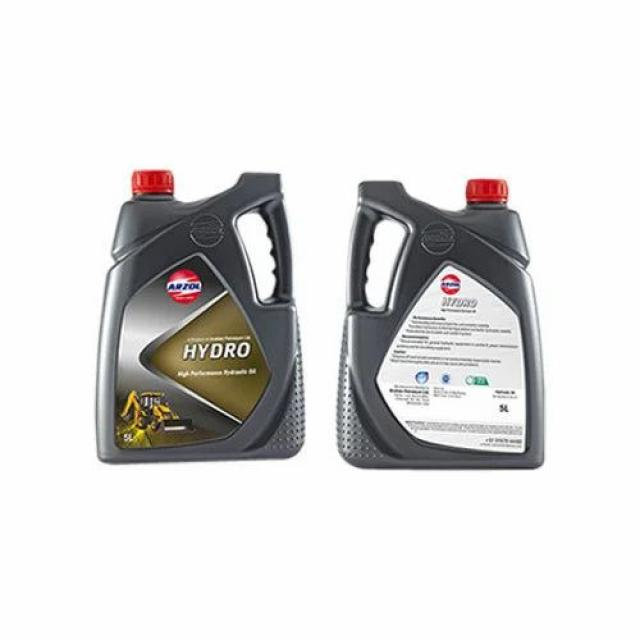motor_oil: (328, 164, 550, 484), (91, 156, 304, 474)
